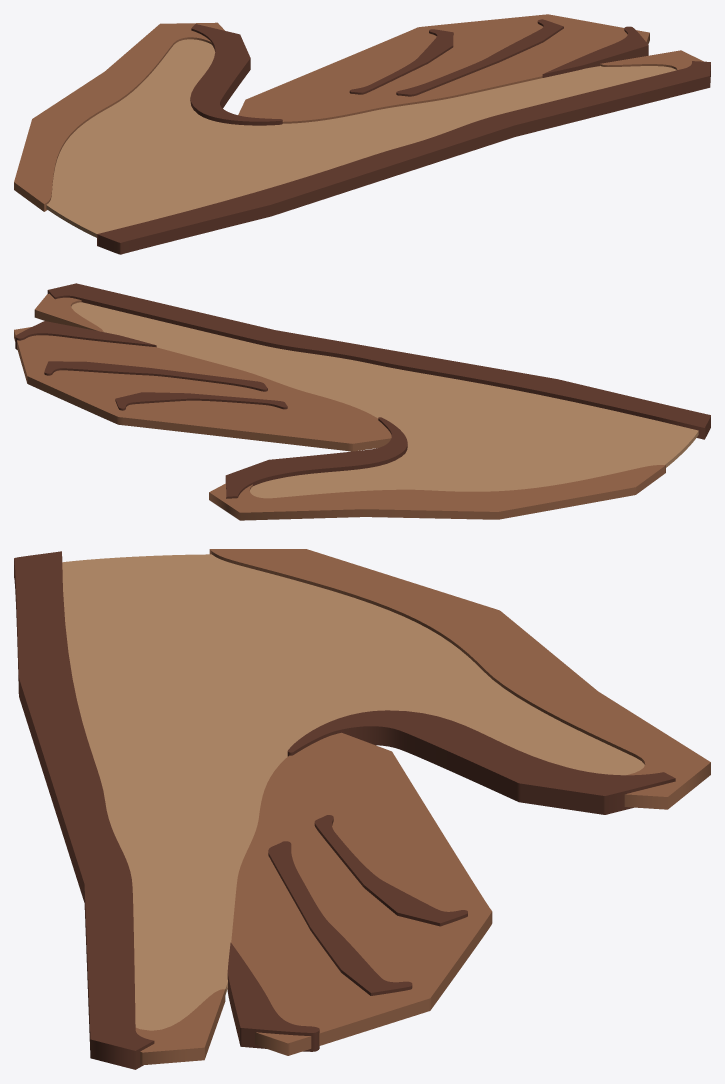
Rendered from emoji_u1faf4_1f3fd.glb.
3 renders of one model, top to bottom at view 1: azimuth 30°, elevation 25°; view 2: azimuth 150°, elevation 25°; view 3: azimuth 270°, elevation 25°, orthographic. The views are drawn at different scales.
Visible parts, largest first — view 1: emoji_u1faf4_1f3fd; view 2: emoji_u1faf4_1f3fd; view 3: emoji_u1faf4_1f3fd.
Boxes of the visible parts, x1=… form: emoji_u1faf4_1f3fd: x1=14, y1=14, x2=710, y2=254; emoji_u1faf4_1f3fd: x1=14, y1=283, x2=710, y2=520; emoji_u1faf4_1f3fd: x1=14, y1=549, x2=710, y2=1069.
Size of the model in its own units: 0.0343 by 0.0006 by 0.02.
